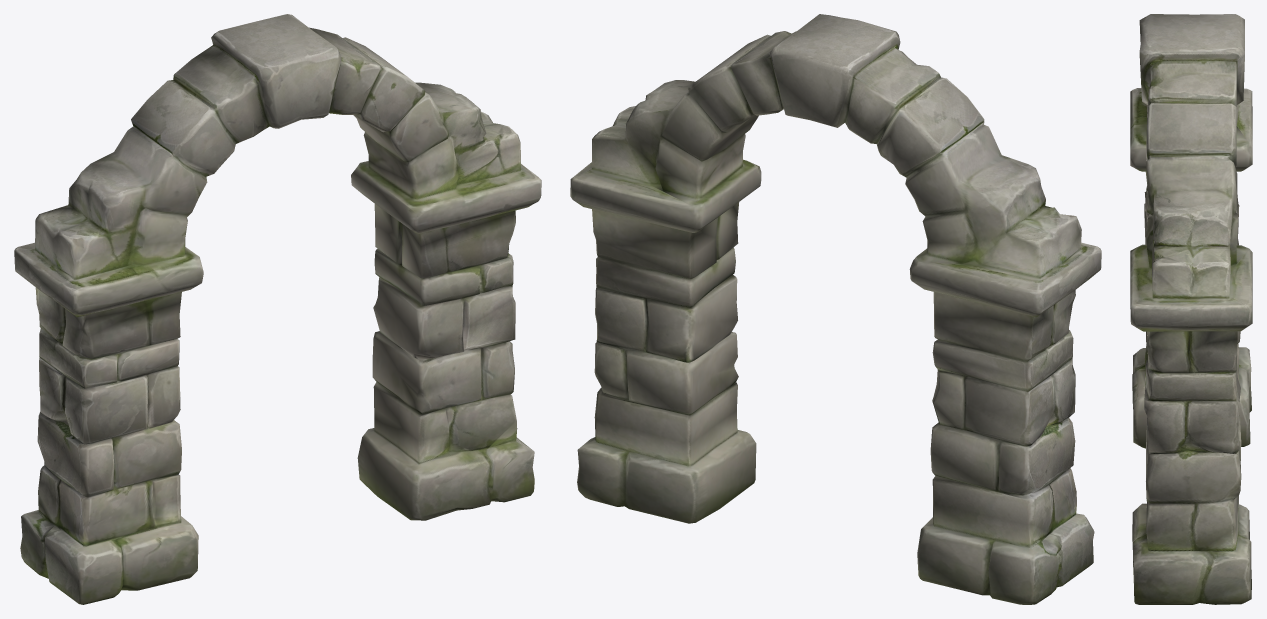
File: arch.glb
The picture shows the model from 3 angles, left to right: view 1: azimuth 30°, elevation 25°; view 2: azimuth 150°, elevation 25°; view 3: azimuth 270°, elevation 25°; orthographic projection. The views are drawn at different scales.
Visible parts, largest first — view 1: arch; view 2: arch; view 3: arch.
Boxes of the visible parts, bbox=[...] form: arch: bbox=[14, 14, 541, 604]; arch: bbox=[570, 14, 1101, 604]; arch: bbox=[1130, 14, 1252, 604].
Size of the model in its own units: 0.9995 by 0.9888 by 0.2329.
1 material, 1 textured.
